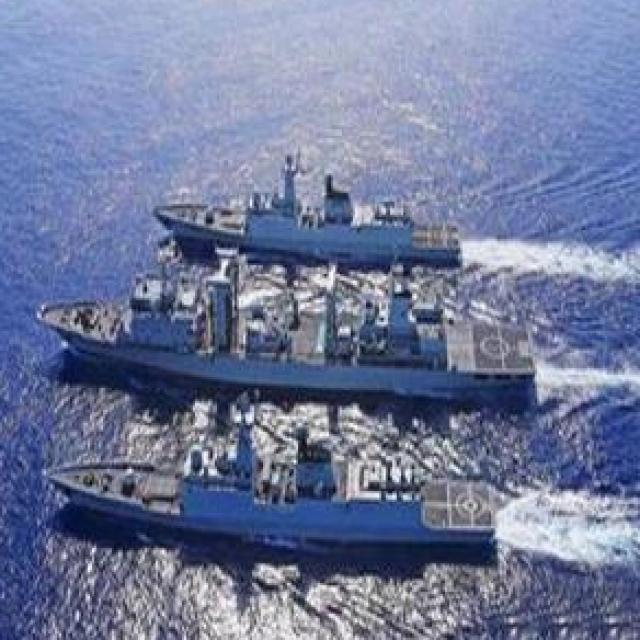navalvessels: (44, 401, 506, 564), (39, 257, 540, 388), (150, 151, 462, 263)
